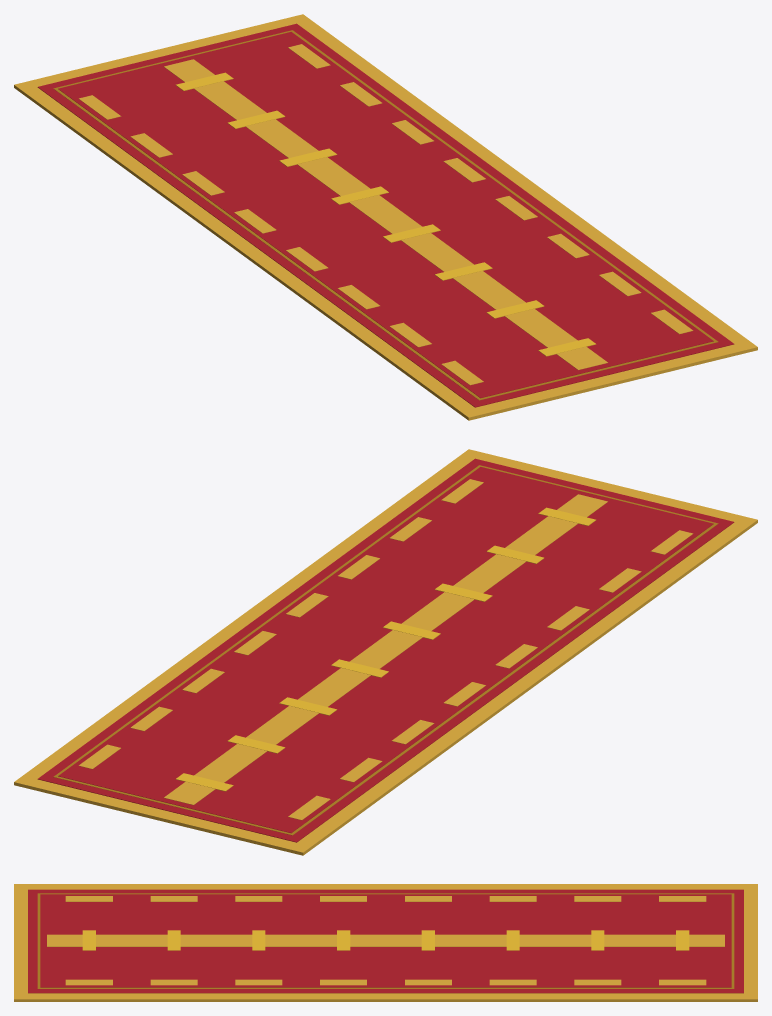
The model's file is royal_carpet.glb.
3 renders of one model, top to bottom at view 1: azimuth 30°, elevation 25°; view 2: azimuth 150°, elevation 25°; view 3: azimuth 270°, elevation 25°, orthographic. The views are drawn at different scales.
Parts seen in each view (by area): view 1: root; view 2: root; view 3: root.
Part boxes in pixels (x1,y1,x2,y2): root: (14, 14, 757, 420); root: (14, 449, 757, 855); root: (14, 884, 757, 1001).
Bounding box in the file's own units: 2.9 × 0.045 × 7.9.
